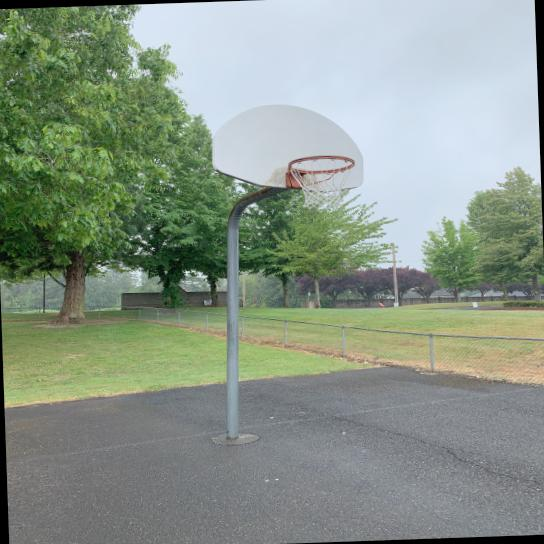basketball-hoop: (285, 152, 359, 212)
